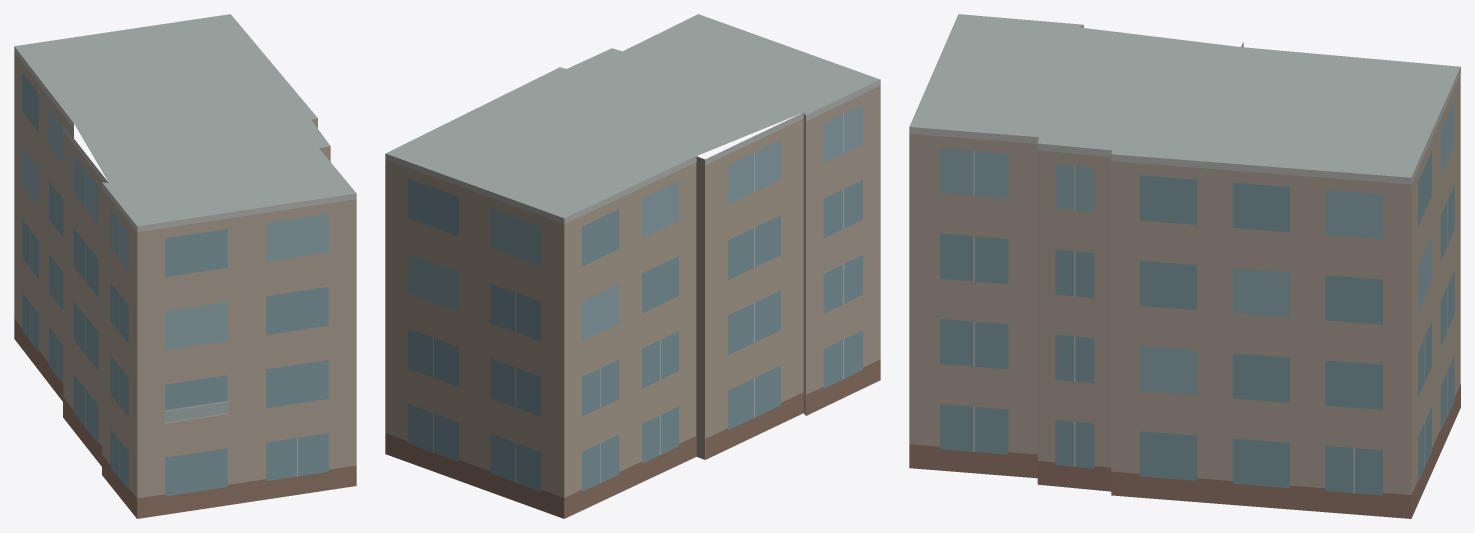
File: survey-upis-32674097.glb
The picture shows the model from 3 angles, left to right: view 1: azimuth 30°, elevation 25°; view 2: azimuth 150°, elevation 25°; view 3: azimuth 270°, elevation 25°; orthographic projection. The views are drawn at different scales.
Visible parts, largest first — view 1: survey-upis-32674097.tmp; view 2: survey-upis-32674097.tmp; view 3: survey-upis-32674097.tmp.
Boxes of the visible parts, <box> form: survey-upis-32674097.tmp: <box>14,14,356,518</box>; survey-upis-32674097.tmp: <box>385,14,880,518</box>; survey-upis-32674097.tmp: <box>909,14,1460,518</box>.
Size of the model in its own units: 12.57 by 12.2 by 17.88.
